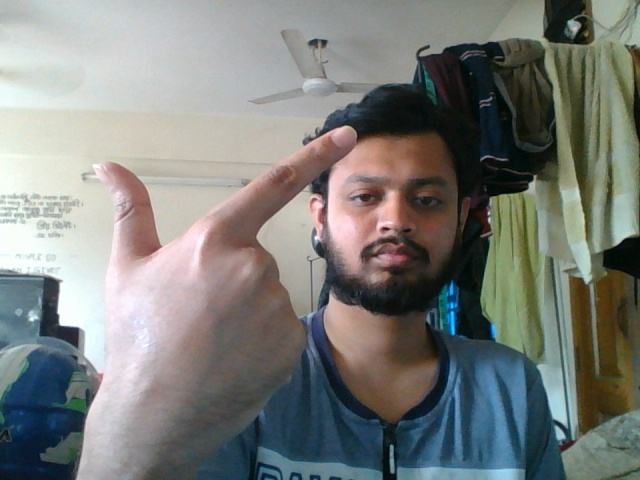tho: (85, 119, 360, 442)
